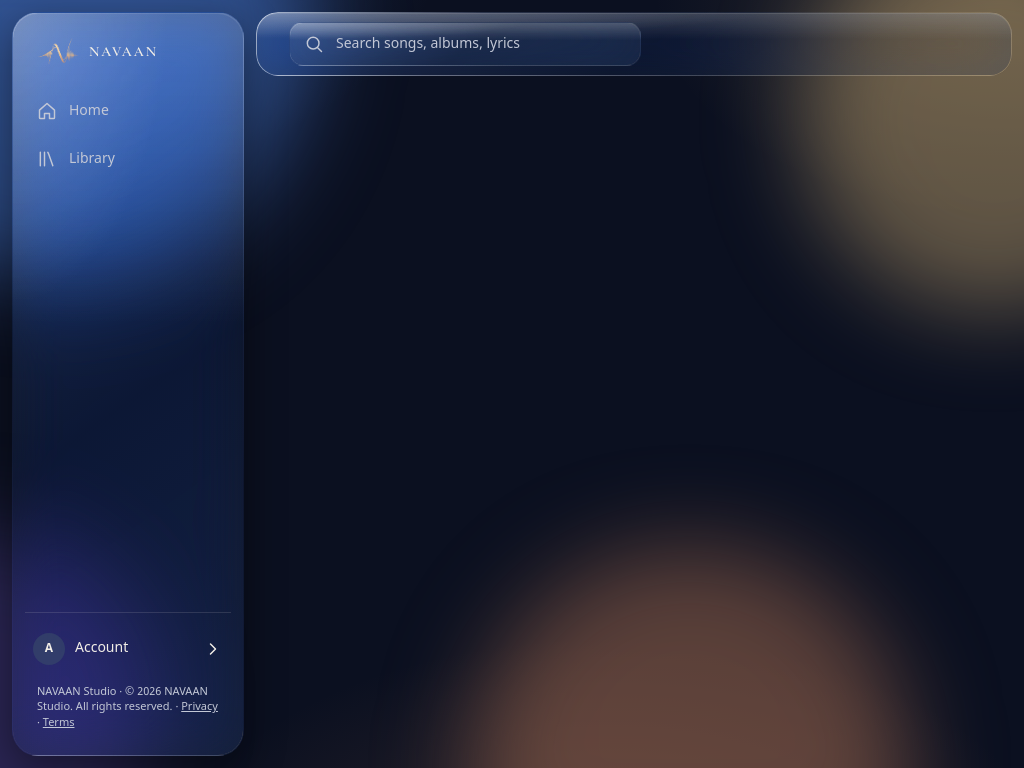
Test case: the account menu › opens with the themes and closes on Escape
Click the button with aria-label "Account menu" at (128, 649), box [25, 625, 231, 673]
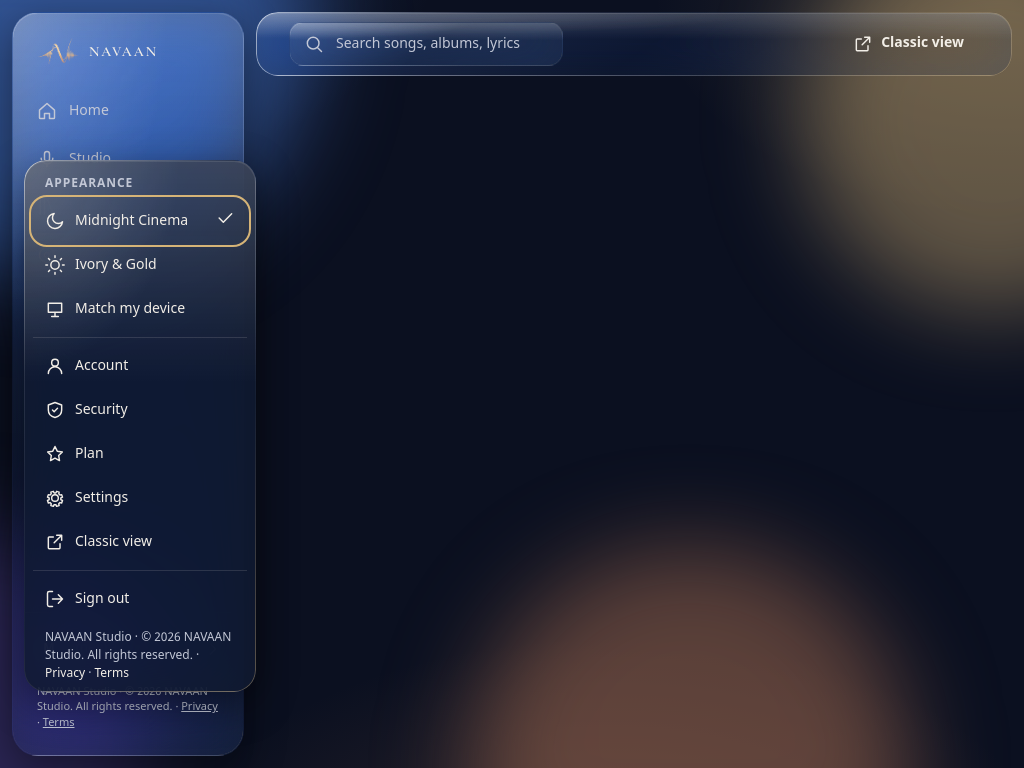
Now the button "Midnight Cinema" is shown, box [33, 199, 247, 243]
Now the button "Ivory & Gold" is shown, box [33, 243, 247, 287]
Now the button "Match my device" is shown, box [33, 287, 247, 331]
Press Escape
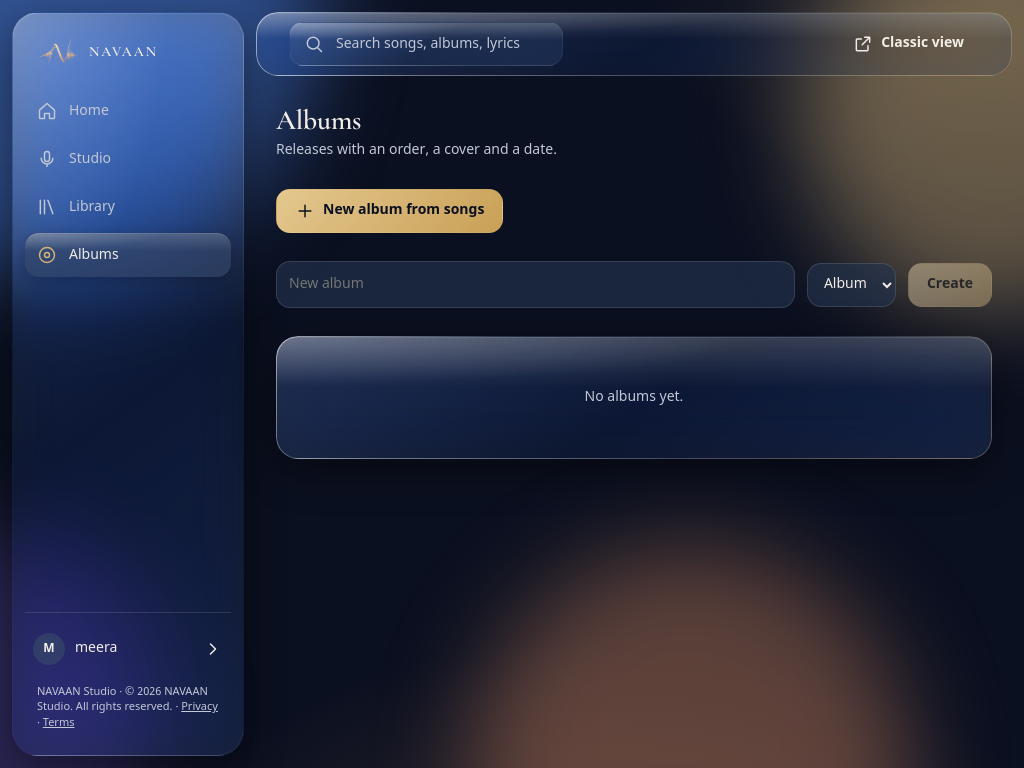
Now the dialog is gone
